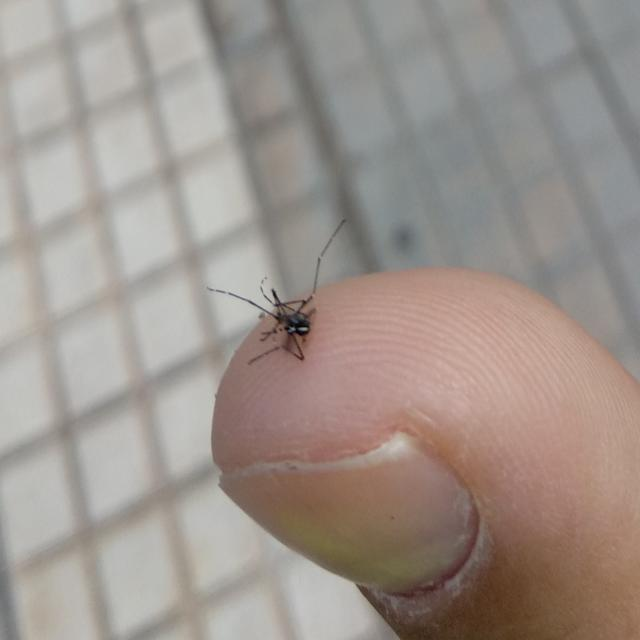albopictus: (206, 212, 353, 373)
